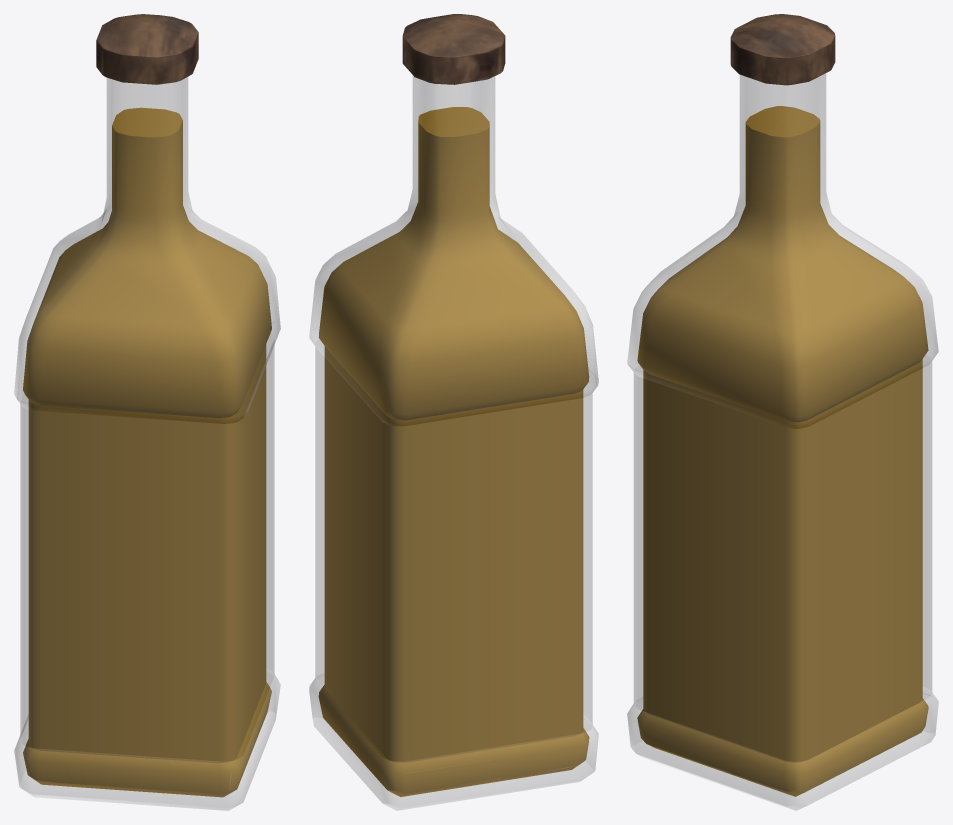
The model's file is bottle_glass_3.glb.
The picture shows the model from 3 angles, left to right: view 1: azimuth 30°, elevation 25°; view 2: azimuth 150°, elevation 25°; view 3: azimuth 270°, elevation 25°; orthographic projection.
Visible parts, largest first — view 1: Whiskey_Material.003_0; view 2: Whiskey_Material.003_0; view 3: Whiskey_Material.003_0.
Boxes of the visible parts, x1,y1,x2,y2 form: Whiskey_Material.003_0: (14, 14, 280, 810); Whiskey_Material.003_0: (309, 14, 598, 810); Whiskey_Material.003_0: (627, 14, 938, 810).
Size of the model in its own units: 0.1158 by 0.3 by 0.1158.
1 material, 1 textured.
